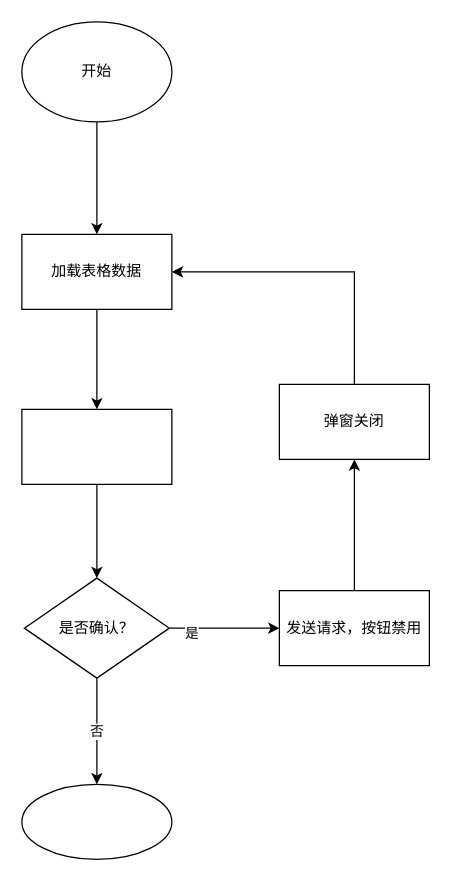
The diagram is 451 pixels wide and 881 high, and some of its shapes have lost their labels. The shapes that lost their labels are listed below. From the top down, each one's centre as x and y in pixels, then its label:
(96,446): 选中某项，删除
(96,821): 结束
